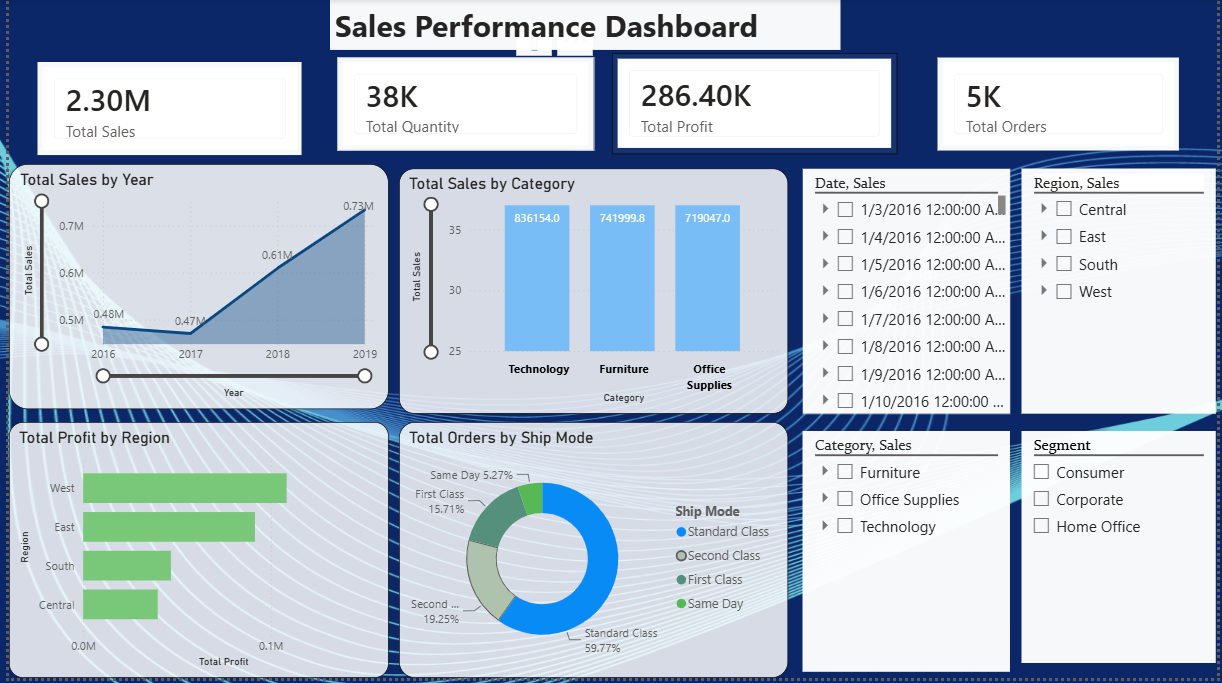

The dashboard page shown, as its layout file describes it:
{"tool":"powerbi","page":{"name":"Basic Data Exploration and Visualization","canvas":[1280,720],"ordinal":0},"visuals":[{"type":"cardVisual","fields":{"Data":["Sales.Total Sales"]},"box":[30,66.2,280,98.8],"z":0},{"type":"cardVisual","fields":{"Data":["Sales.Total Orders"]},"box":[985,61.2,256.2,98.8],"z":1000},{"type":"cardVisual","fields":{"Data":["Sales.Total Profit"]},"box":[640,57.5,302.5,107.5],"z":2000},{"type":"cardVisual","fields":{"Data":["Sales.Total Quantity"]},"box":[348.8,61.2,271.2,98.8],"z":3000},{"type":"lineChart","fields":{"Category":["Date Table.Date.Variation.Date Hierarchy.Year","Date Table.Date.Variation.Date Hierarchy.Quarter","Date Table.Date.Variation.Date Hierarchy.Month","Date Table.Date.Variation.Date Hierarchy.Day"],"Y":["Sales.Total Sales"]},"box":[0,175,402.5,260],"z":4000},{"type":"clusteredColumnChart","fields":{"Category":["Sales.Category"],"Y":["Sales.Total Sales"]},"box":[413.8,180,412.5,260],"z":5000},{"type":"barChart","fields":{"Category":["Sales.Region"],"Y":["Sales.Total Profit"]},"box":[0,448.8,402.5,271.2],"z":6000},{"type":"donutChart","fields":{"Category":["Sales.Ship Mode"],"Y":["Sales.Total Orders"]},"box":[413.8,448.8,412.5,271.2],"z":7000},{"type":"slicer","fields":{"Values":["Date Table.Date","Sales.Sales"]},"box":[841.2,180,220,260],"z":8000},{"type":"slicer","fields":{"Values":["Sales.Region","Sales.Sales"]},"box":[1073.8,180,206.2,260],"z":9000},{"type":"slicer","fields":{"Values":["Sales.Category","Sales.Sales"]},"box":[841.2,457.5,220,255],"z":10000},{"type":"slicer","fields":{"Values":["Sales.Segment"]},"box":[1073.8,457.5,206.2,246.2],"z":11000},{"type":"textbox","box":[340,0,541.2,53.8],"z":12000}]}

Visuals, with their boxes in screenshot pixels (x1, y1, x2, y2), scaled from the page's 1280x720 canvas onto the 1222x683 screenshot:
cardVisual - Sales.Total Sales: (x1=29, y1=63, x2=296, y2=157)
cardVisual - Sales.Total Orders: (x1=940, y1=58, x2=1185, y2=152)
cardVisual - Sales.Total Profit: (x1=611, y1=55, x2=900, y2=157)
cardVisual - Sales.Total Quantity: (x1=333, y1=58, x2=592, y2=152)
lineChart - Date Table.Date.Variation.Date Hierarchy.Year x Date Table.Date.Variation.Date Hierarchy.Quarter: (x1=0, y1=166, x2=384, y2=413)
clusteredColumnChart - Sales.Category x Sales.Total Sales: (x1=395, y1=171, x2=789, y2=417)
barChart - Sales.Region x Sales.Total Profit: (x1=0, y1=426, x2=384, y2=682)
donutChart - Sales.Ship Mode x Sales.Total Orders: (x1=395, y1=426, x2=789, y2=682)
slicer - Date Table.Date x Sales.Sales: (x1=803, y1=171, x2=1013, y2=417)
slicer - Sales.Region x Sales.Sales: (x1=1025, y1=171, x2=1221, y2=417)
slicer - Sales.Category x Sales.Sales: (x1=803, y1=434, x2=1013, y2=676)
slicer - Sales.Segment: (x1=1025, y1=434, x2=1221, y2=668)
textbox: (x1=325, y1=0, x2=841, y2=51)
